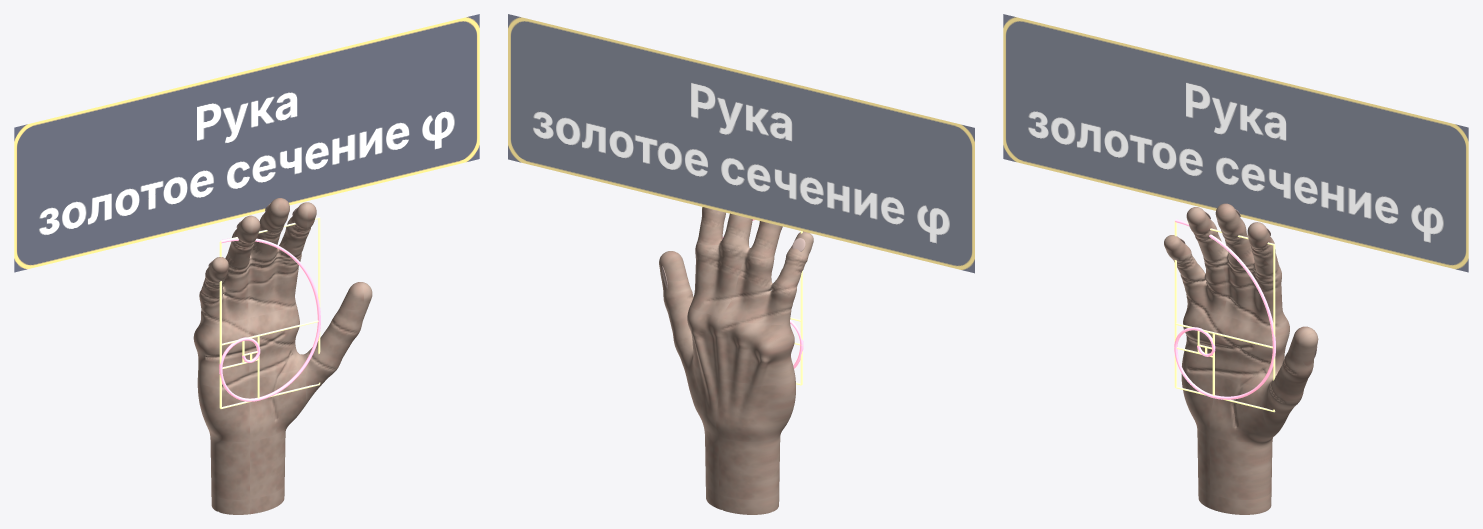
Rendered from hand.glb.
The picture shows the model from 3 angles, left to right: view 1: azimuth 30°, elevation 25°; view 2: azimuth 150°, elevation 25°; view 3: azimuth 330°, elevation 25°; orthographic projection.
Bounding box in the file's own units: 0.2281 × 0.2016 × 0.0355.
Materials: 39 (3 with a texture image).
